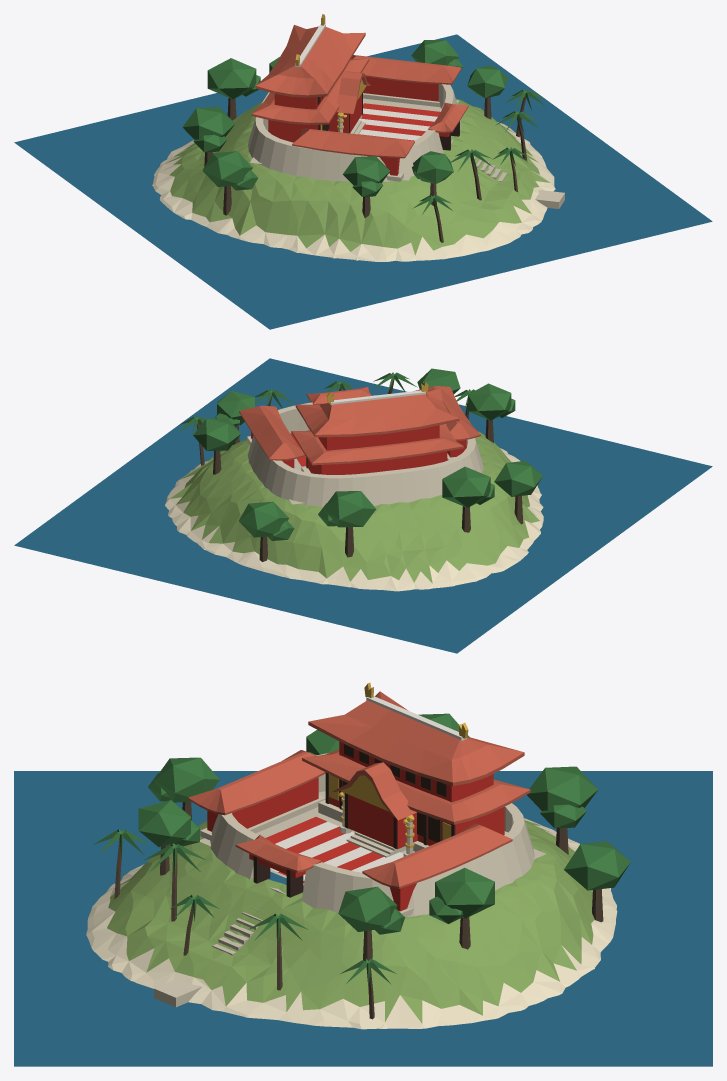
File: shuri-castle.glb
3 views of the same model, one above another, from view 1: azimuth 30°, elevation 25°; view 2: azimuth 150°, elevation 25°; view 3: azimuth 270°, elevation 25° (orthographic). The views are drawn at different scales.
Visible parts, largest first — view 1: shuri_water, shuri_terrain, shuri_roof, shuri_leaf, shuri_sand, shuri_limestone, shuri_red, shuri_bark, shuri_white, shuri_pave; view 2: shuri_water, shuri_terrain, shuri_roof, shuri_leaf, shuri_limestone, shuri_sand, shuri_red, shuri_bark; view 3: shuri_water, shuri_terrain, shuri_roof, shuri_leaf, shuri_sand, shuri_limestone, shuri_red, shuri_bark, shuri_dark, shuri_white, shuri_pave, shuri_gold.
Boxes of the visible parts, bbox=[...] form: shuri_water: bbox=[14, 34, 712, 329]; shuri_terrain: bbox=[165, 98, 550, 255]; shuri_roof: bbox=[251, 25, 468, 158]; shuri_leaf: bbox=[182, 40, 545, 216]; shuri_sand: bbox=[152, 122, 555, 261]; shuri_limestone: bbox=[248, 84, 564, 208]; shuri_red: bbox=[268, 76, 449, 175]; shuri_bark: bbox=[204, 96, 527, 242]; shuri_white: bbox=[295, 24, 437, 140]; shuri_pave: bbox=[250, 98, 507, 181]; shuri_water: bbox=[14, 358, 712, 653]; shuri_terrain: bbox=[170, 431, 539, 583]; shuri_roof: bbox=[239, 386, 480, 465]; shuri_leaf: bbox=[177, 368, 542, 540]; shuri_limestone: bbox=[247, 395, 483, 506]; shuri_sand: bbox=[165, 448, 543, 591]; shuri_red: bbox=[251, 425, 466, 474]; shuri_bark: bbox=[196, 379, 523, 561]; shuri_water: bbox=[14, 771, 712, 1066]; shuri_terrain: bbox=[107, 820, 594, 1023]; shuri_roof: bbox=[188, 691, 530, 888]; shuri_leaf: bbox=[93, 713, 630, 989]; shuri_sand: bbox=[86, 818, 617, 1029]; shuri_limestone: bbox=[154, 753, 534, 1007]; shuri_red: bbox=[207, 741, 504, 911]; shuri_bark: bbox=[114, 802, 603, 1019]; shuri_dark: bbox=[253, 744, 455, 897]; shuri_white: bbox=[270, 696, 466, 880]; shuri_pave: bbox=[200, 791, 545, 955]; shuri_gold: bbox=[329, 682, 468, 847].
Size of the model in its own units: 22.4 by 7.3 by 22.4.
